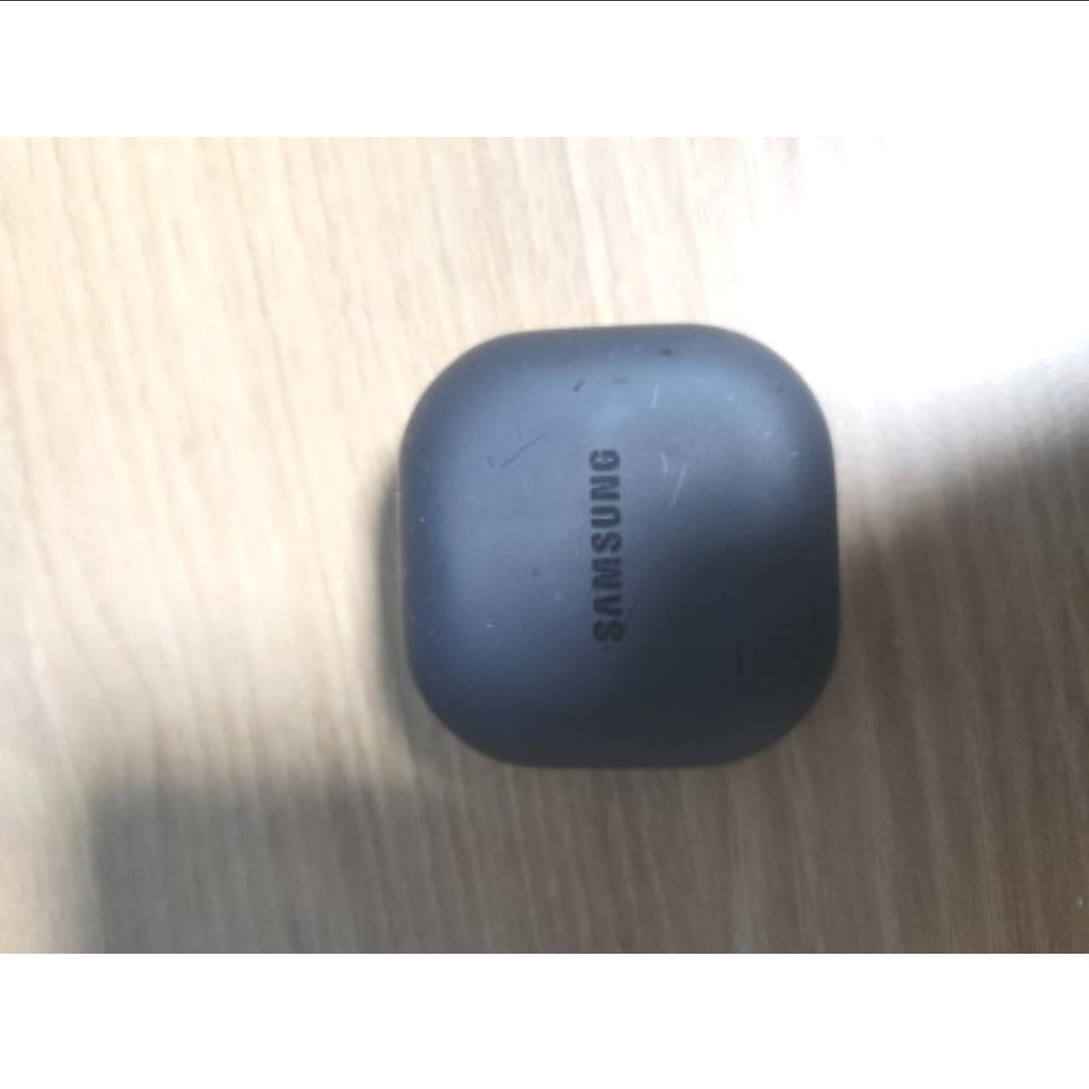Buds: (393, 316, 853, 776)
